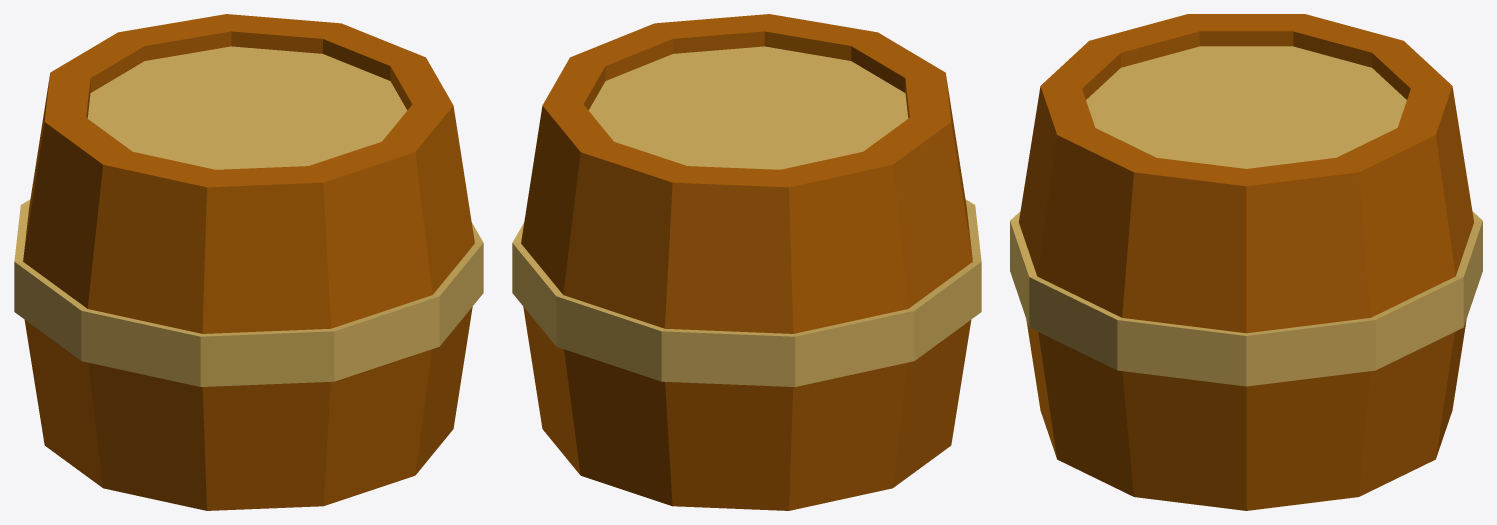
The model's file is Barrel.fbx.
3 views of the same model, side by side, from view 1: azimuth 30°, elevation 25°; view 2: azimuth 150°, elevation 25°; view 3: azimuth 270°, elevation 25° (orthographic).
Visible parts, largest first — view 1: pCylinder5; view 2: pCylinder5; view 3: pCylinder5.
Boxes of the visible parts, left/top/right/bottom form: pCylinder5: left=14, top=14, right=483, bottom=510; pCylinder5: left=512, top=14, right=981, bottom=510; pCylinder5: left=1010, top=14, right=1482, bottom=510.
Size of the model in its own units: 0.8986 by 0.6877 by 0.9078.
